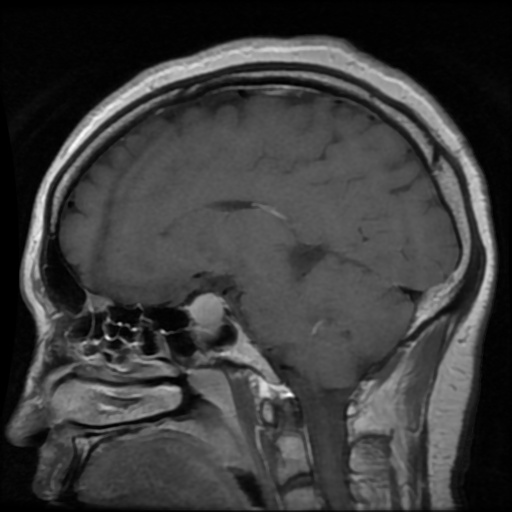pituitary: (189, 292, 224, 326)
